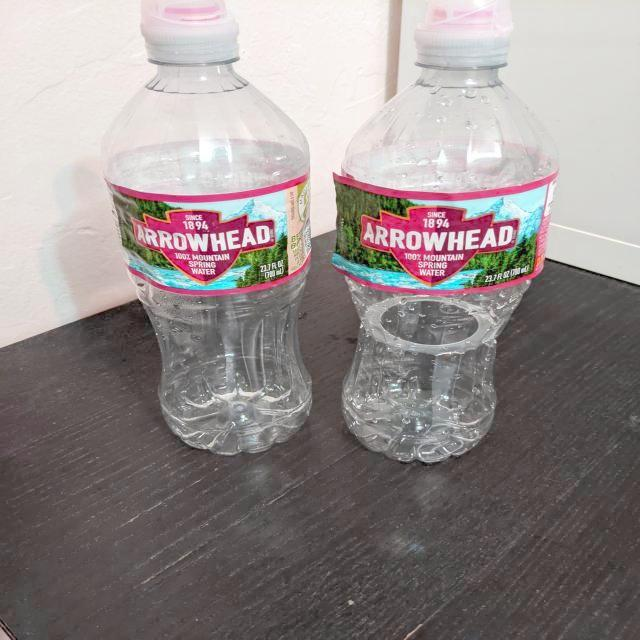bottle: (330, 1, 560, 462), (100, 1, 315, 456)
